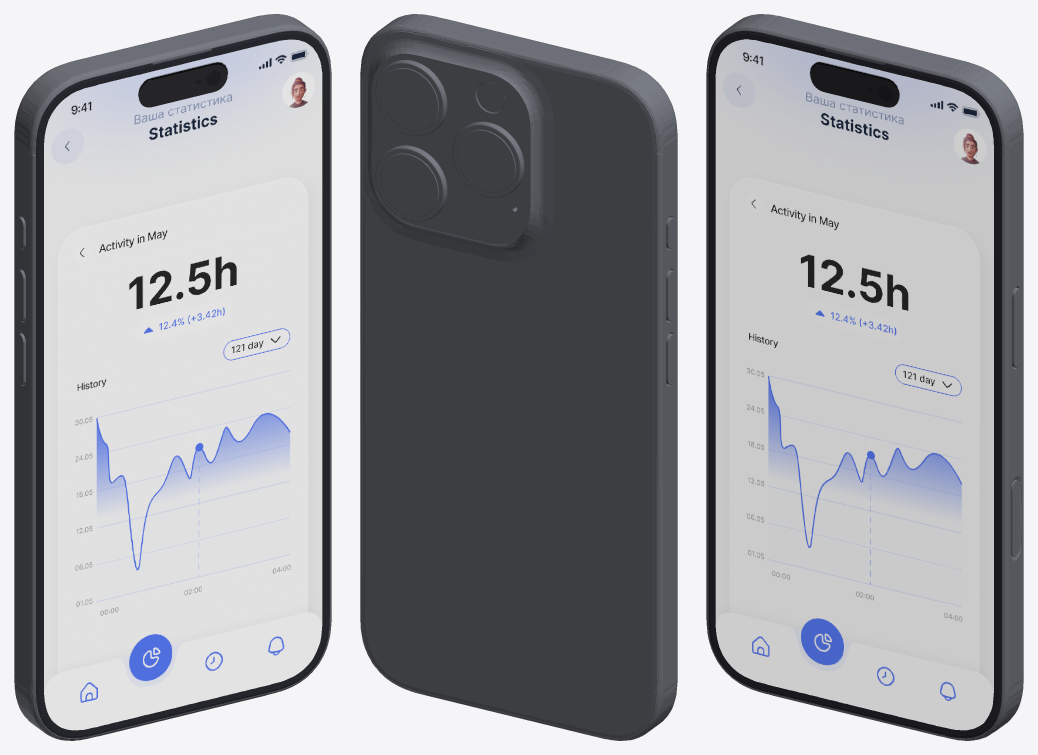
File: iphone-statistics-draco.glb
3 renders of one model, left to right at view 1: azimuth 30°, elevation 25°; view 2: azimuth 150°, elevation 25°; view 3: azimuth 330°, elevation 25°, orthographic.
Parts seen in each view (by area): view 1: display, edge-a, edge-display, frontal-camera-1; view 2: back, edge-a, back-camera, back-camera-lente-2-a, back-camera-lente-3-a, back-camera-lente-1-b, back-camera-lente-3-d, back-camera-lente-2-d, back-camera-lente-1-a, back-camera-flash-a; view 3: display, edge-a, edge-display, frontal-camera-1, button-4, button-5-center.
Boxes of the visible parts, box(x1,y1,x2,y2) form: display: box(44, 39, 322, 730); edge-a: box(14, 14, 331, 740); edge-display: box(36, 31, 329, 738); frontal-camera-1: box(139, 64, 227, 107); back: box(362, 31, 655, 738); edge-a: box(360, 14, 677, 740); back-camera: box(372, 53, 530, 244); back-camera-lente-2-a: box(458, 132, 513, 191); back-camera-lente-3-a: box(381, 156, 436, 214); back-camera-lente-1-b: box(381, 70, 436, 129); back-camera-lente-3-d: box(375, 145, 447, 221); back-camera-lente-2-d: box(452, 121, 524, 198); back-camera-lente-1-a: box(375, 60, 447, 136); back-camera-flash-a: box(477, 82, 504, 112); display: box(715, 39, 993, 730); edge-a: box(706, 14, 1023, 740); edge-display: box(708, 31, 1001, 738); frontal-camera-1: box(810, 64, 898, 107); button-4: box(1012, 287, 1020, 367); button-5-center: box(1012, 481, 1019, 555).
Size of the model in its own units: 7.17 by 14.92 by 1.21.
Materials: 5 (1 with a texture image).
